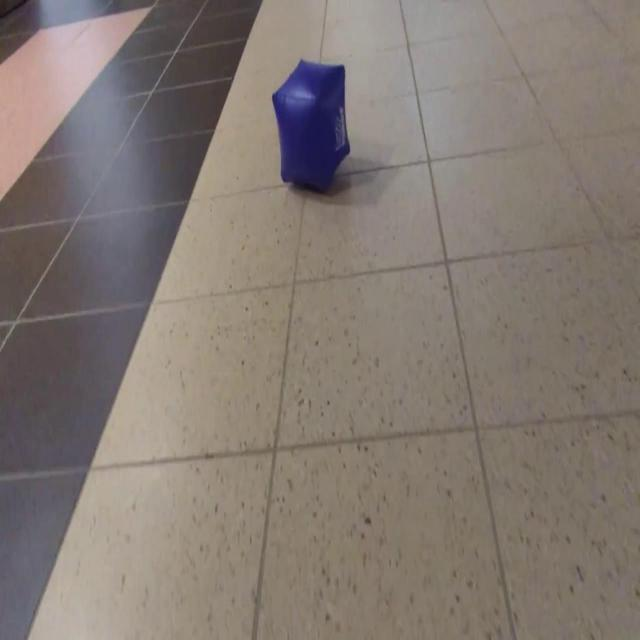frc_cube: (270, 59, 352, 193)
